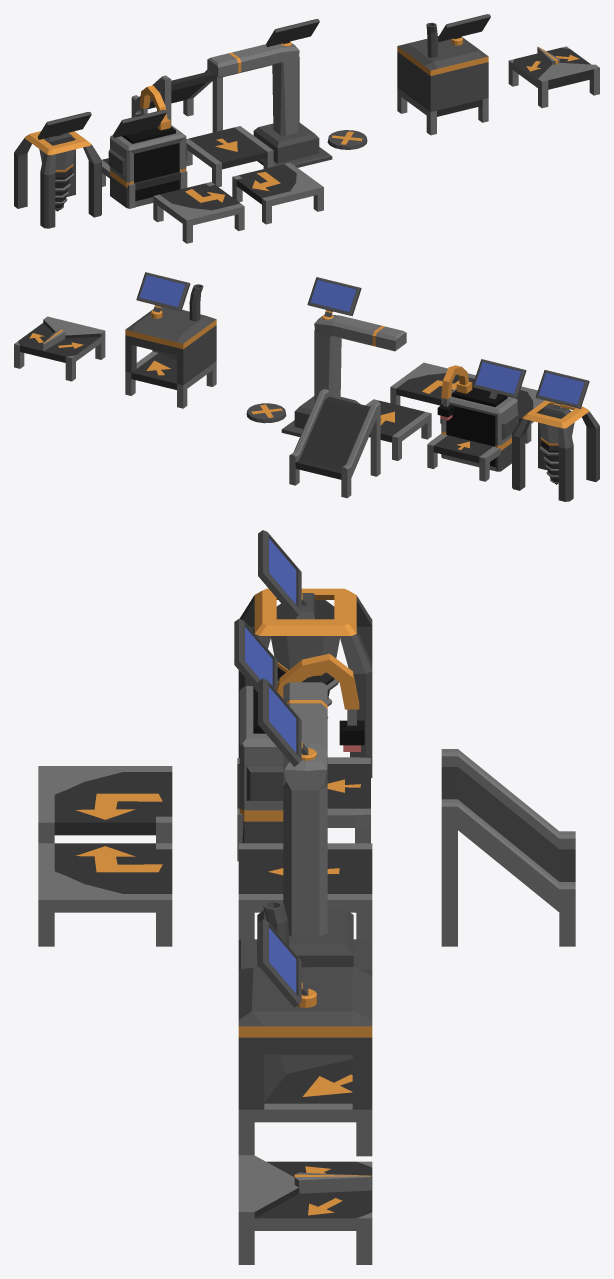
The model's file is conveyor.fbx.
3 views of the same model, one above another, from view 1: azimuth 30°, elevation 25°; view 2: azimuth 150°, elevation 25°; view 3: azimuth 270°, elevation 25° (orthographic). The views are drawn at different scales.
Visible parts, largest first — view 1: Cube.004, Cube.011, Cube.009, Cube.007, Cube.003, Cube.001, Cube.014, Cube, Cube.006, Cube.002, Cube.012, Cone (+4 smaller); view 2: Cube.004, Cube.002, Cube.011, Cube.009, Cube.007, Cube.014, Cube.012, Cube, Cube.001, Cube.005, Cube.013, Cube.008 (+4 smaller); view 3: Cube.011, Cube.002, Cube.001, Cube.004, Cube.007, Cube.003, Cube.014, Cube.009, Cube, Cube.012, Cube.006, Cube.005 (+5 smaller).
Boxes of the visible parts, bbox=[...] form: Cube.004: bbox=[108, 85, 187, 208]; Cube.011: bbox=[397, 22, 488, 111]; Cube.009: bbox=[14, 131, 101, 228]; Cube.007: bbox=[207, 43, 299, 135]; Cube.003: bbox=[153, 182, 244, 243]; Cube.001: bbox=[232, 162, 323, 224]; Cube.014: bbox=[508, 46, 599, 108]; Cube: bbox=[186, 126, 273, 186]; Cube.006: bbox=[253, 123, 367, 167]; Cube.002: bbox=[131, 69, 222, 132]; Cube.012: bbox=[397, 88, 488, 135]; Cone: bbox=[39, 137, 75, 211]; Cube.004: bbox=[437, 359, 526, 471]; Cube.002: bbox=[289, 389, 380, 498]; Cube.011: bbox=[125, 284, 216, 385]; Cube.009: bbox=[512, 400, 599, 501]; Cube.007: bbox=[314, 314, 406, 402]; Cube.014: bbox=[14, 316, 105, 381]; Cube.012: bbox=[125, 351, 216, 408]; Cube: bbox=[365, 399, 431, 460]; Cube.001: bbox=[390, 362, 475, 405]; Cube.005: bbox=[427, 433, 500, 481]; Cube.013: bbox=[136, 272, 190, 318]; Cube.008: bbox=[307, 277, 361, 319]; Cube.011: bbox=[238, 901, 372, 1109]; Cube.002: bbox=[441, 749, 575, 946]; Cube.001: bbox=[38, 843, 172, 946]; Cube.004: bbox=[234, 618, 364, 843]; Cube.007: bbox=[283, 682, 327, 936]; Cube.003: bbox=[38, 766, 172, 843]; Cube.014: bbox=[238, 1155, 372, 1264]; Cube.009: bbox=[238, 588, 372, 778]; Cube: bbox=[238, 843, 372, 939]; Cube.012: bbox=[238, 1059, 372, 1156]; Cube.006: bbox=[238, 909, 372, 969]; Cube.005: bbox=[237, 757, 370, 861].
Bounding box in the file's own units: 1913 × 461 × 803.
